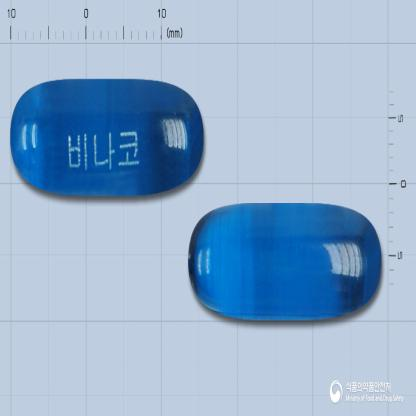pill: (189, 201, 382, 322), (10, 78, 205, 196)
